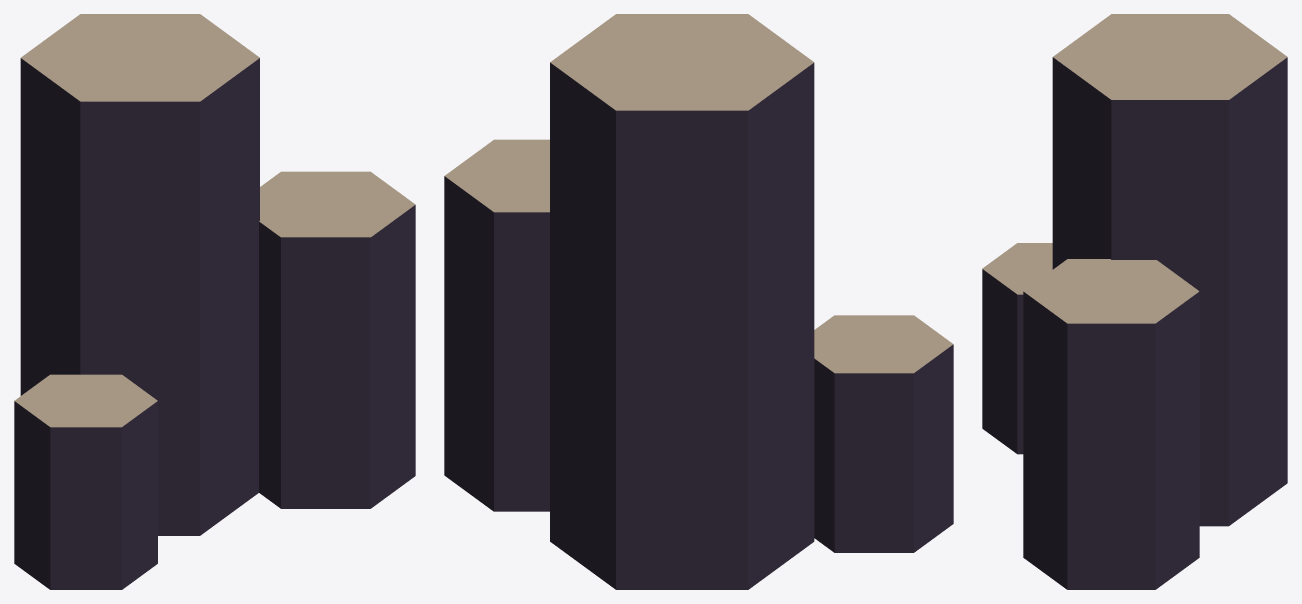
File: basalt-column.glb
3 renders of one model, left to right at view 1: azimuth 30°, elevation 25°; view 2: azimuth 150°, elevation 25°; view 3: azimuth 270°, elevation 25°, orthographic. The views are drawn at different scales.
Visible parts, largest first — view 1: volcanic-basalt-column; view 2: volcanic-basalt-column; view 3: volcanic-basalt-column.
Part boxes in pixels (<box>): volcanic-basalt-column: <box>14,14,415,589</box>; volcanic-basalt-column: <box>444,14,953,589</box>; volcanic-basalt-column: <box>982,14,1287,589</box>.
Bounding box in the file's own units: 0.7538 × 0.8 × 0.52.
